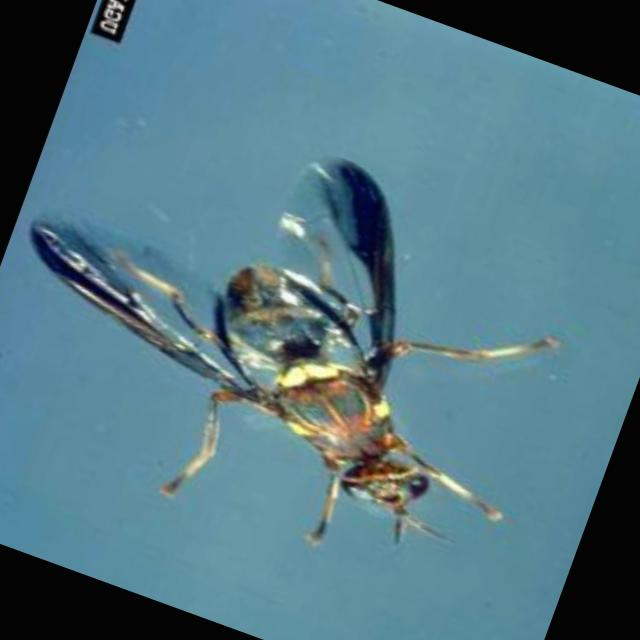melon fly: (0, 34, 631, 635)
